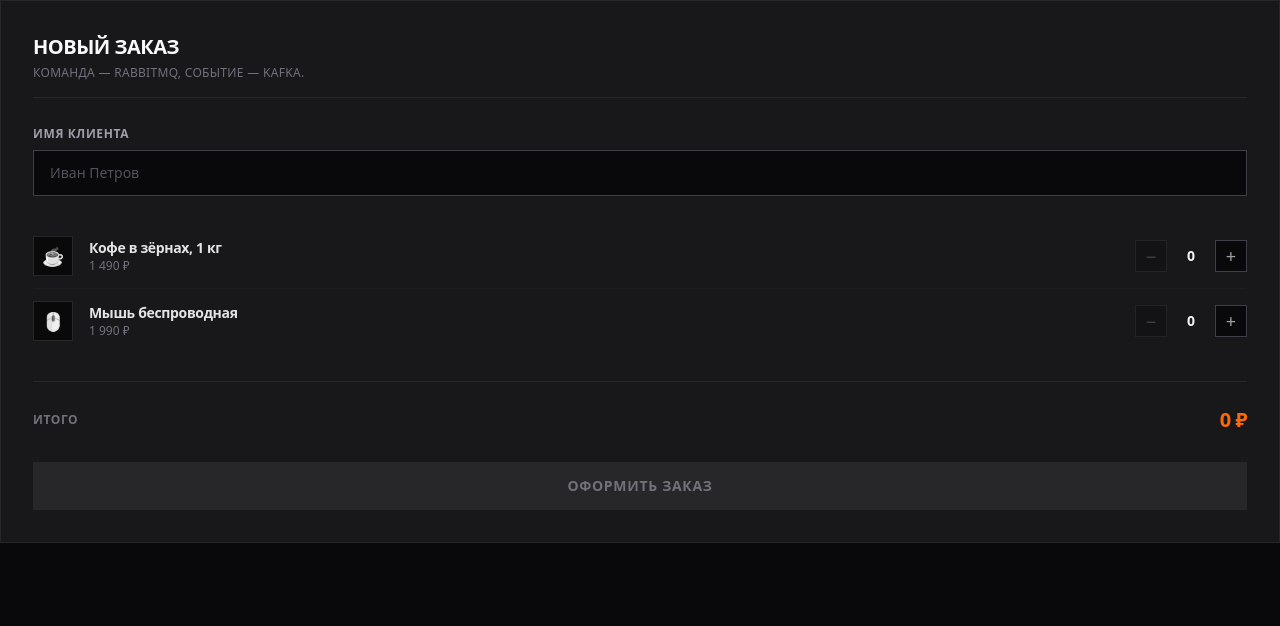
Test: OrderForm › отклоняет заказ без позиций, даже если имя заполнено
In the field labelled "Имя клиента": (640, 173) [33, 150, 1247, 196], type "Иван"
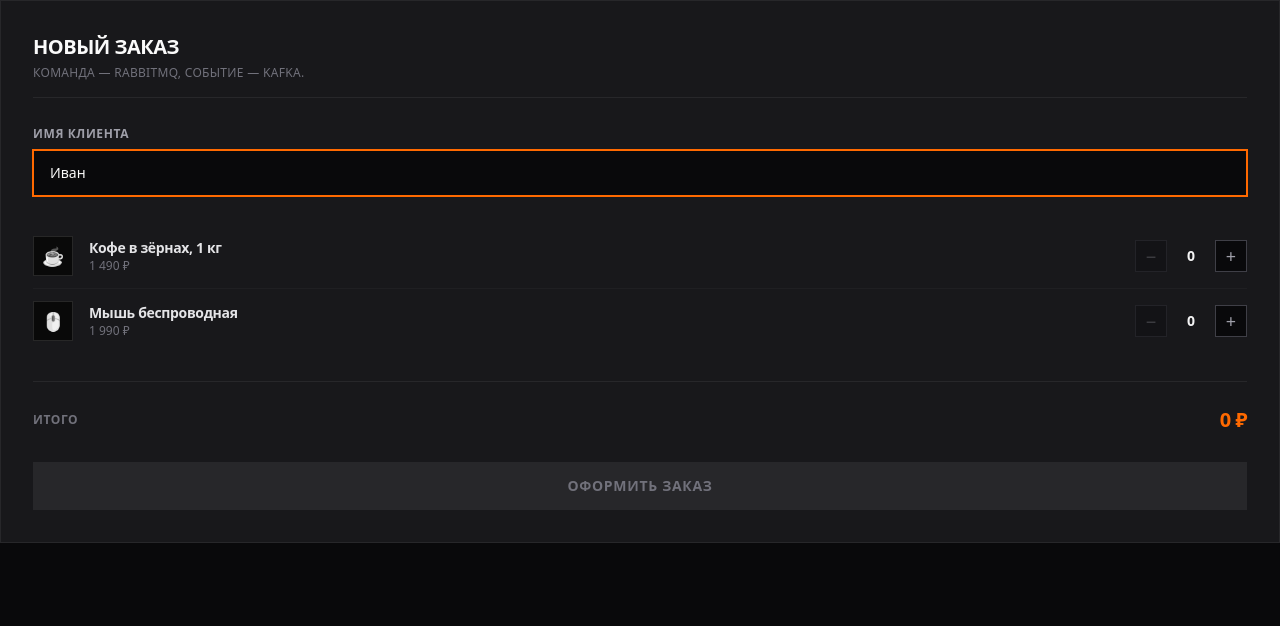
Submit the form
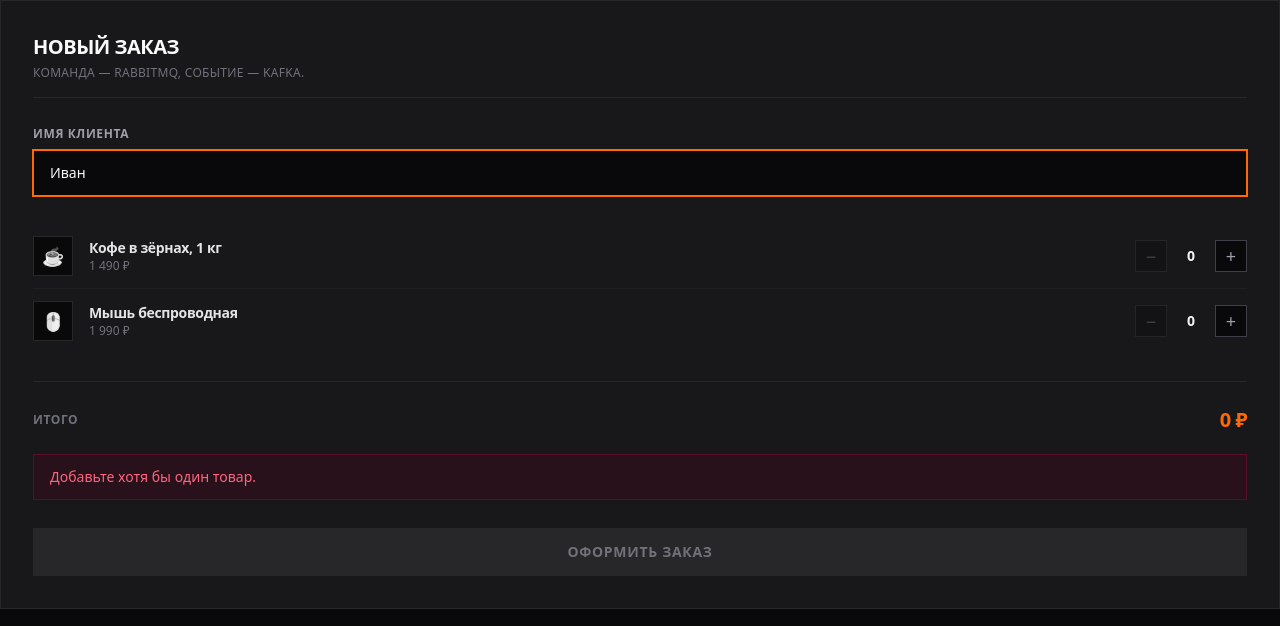
Now the message reads "Добавьте хотя бы один товар.", box [50, 467, 256, 486]
